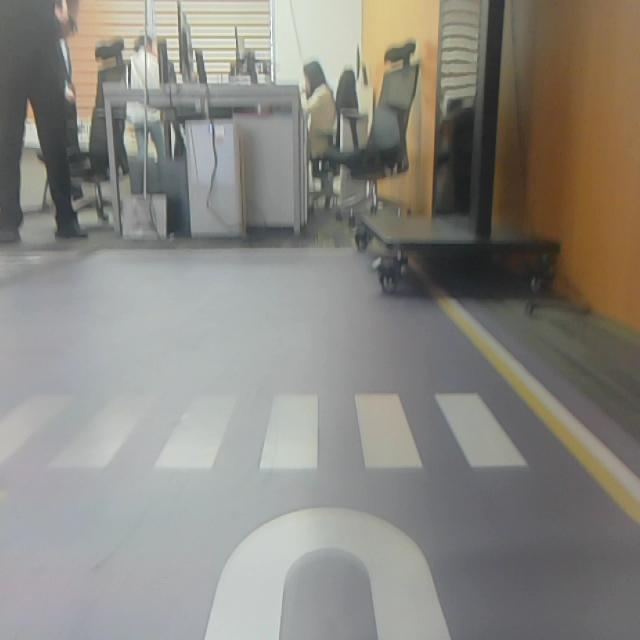right_lane: (413, 262, 640, 524)
